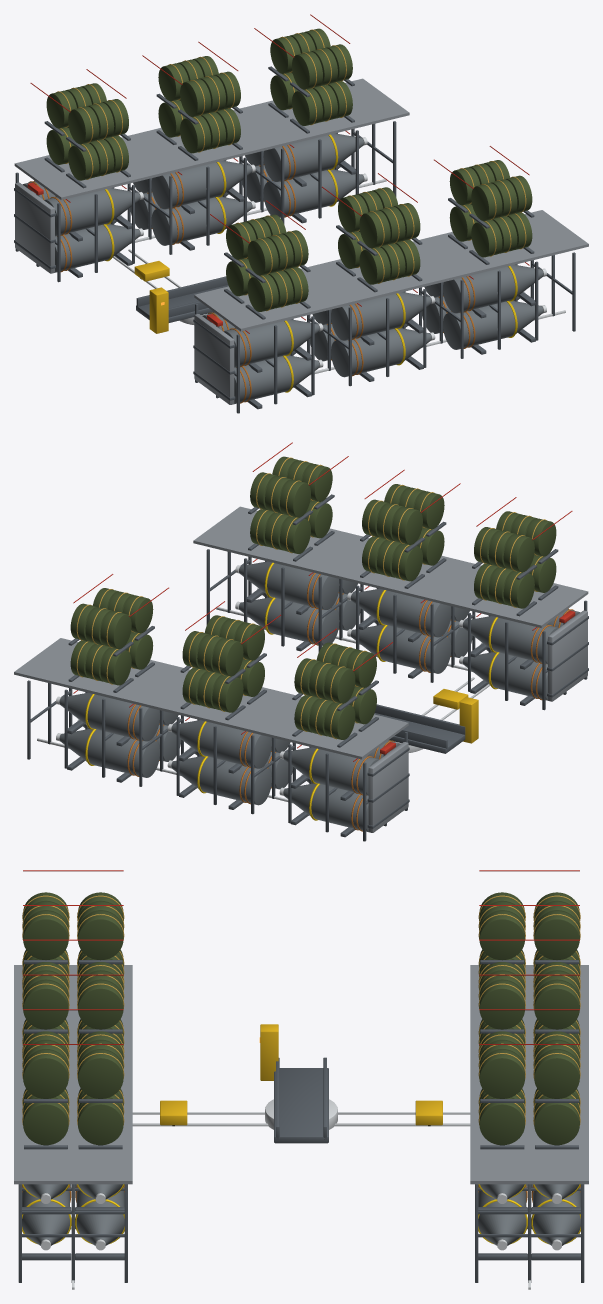
File: magazine.glb
3 renders of one model, top to bottom at view 1: azimuth 30°, elevation 25°; view 2: azimuth 150°, elevation 25°; view 3: azimuth 270°, elevation 25°, orthographic. The views are drawn at different scales.
Visible parts, largest first — view 1: chargemagS, chargemagP, shellmagP, shellmagS, blastdoorP, blastdoorS, hoistfoot, transferS; view 2: chargemagP, chargemagS, shellmagS, shellmagP, hoistfoot, blastdoorS, blastdoorP, transferP; view 3: chargemagP, chargemagS, shellmagP, shellmagS, hoistfoot, transferP, transferS.
Boxes of the visible parts, x1=… form: chargemagS: x1=14, y1=14, x2=409, y2=199; chargemagP: x1=194, y1=146, x2=588, y2=331; shellmagP: x1=195, y1=252, x2=575, y2=413; shellmagS: x1=15, y1=121, x2=396, y2=282; blastdoorP: x1=193, y1=314, x2=235, y2=404; blastdoorS: x1=14, y1=182, x2=55, y2=273; hoistfoot: x1=136, y1=276, x2=228, y2=333; transferS: x1=112, y1=249, x2=181, y2=288; chargemagP: x1=193, y1=442, x2=588, y2=627; chargemagS: x1=14, y1=574, x2=408, y2=759; shellmagS: x1=27, y1=680, x2=407, y2=841; shellmagP: x1=206, y1=549, x2=587, y2=710; hoistfoot: x1=374, y1=697, x2=478, y2=753; blastdoorS: x1=367, y1=742, x2=409, y2=832; blastdoorP: x1=547, y1=610, x2=588, y2=701; transferP: x1=421, y1=677, x2=490, y2=720; chargemagP: x1=14, y1=870, x2=132, y2=1184; chargemagS: x1=470, y1=870, x2=588, y2=1184; shellmagP: x1=18, y1=1184, x2=127, y2=1289; shellmagS: x1=475, y1=1184, x2=584, y2=1289; hoistfoot: x1=259, y1=1024, x2=337, y2=1143; transferP: x1=132, y1=1100, x2=268, y2=1126; transferS: x1=334, y1=1100, x2=470, y2=1126.
Size of the model in its own units: 56.95 by 25.76 by 63.
